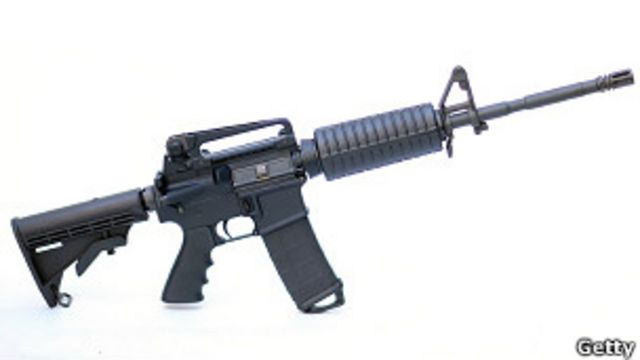Arma Real: (10, 65, 638, 319)
